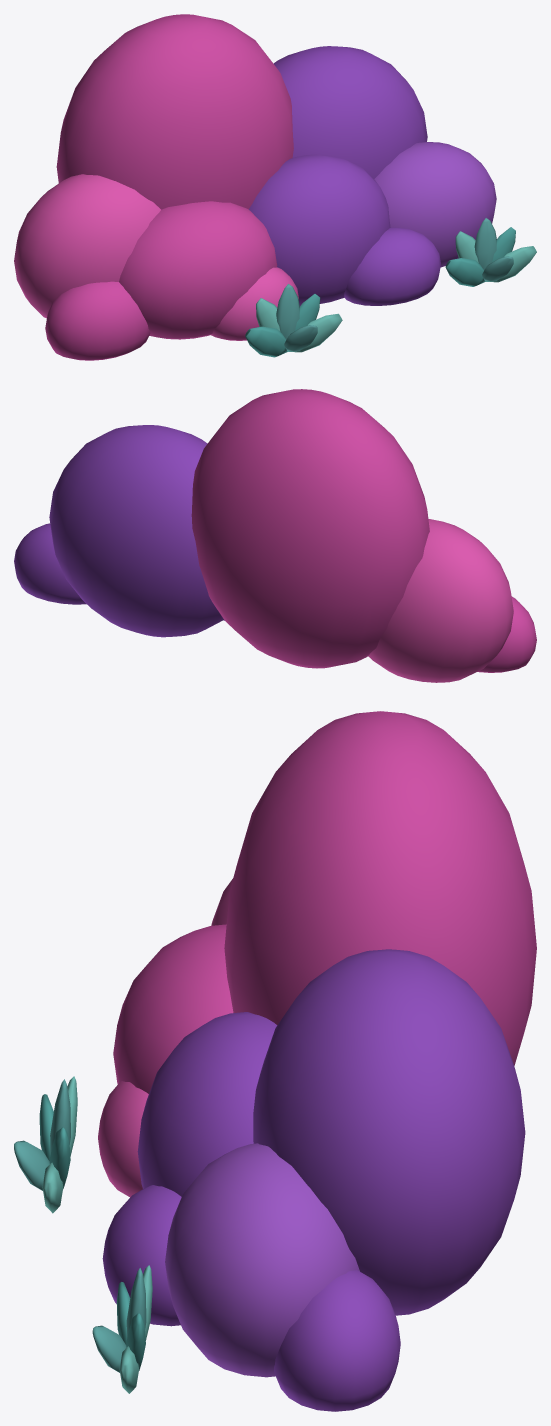
The model's file is berry_shrub_REMADE.glb.
The picture shows the model from 3 angles, top to bottom: view 1: azimuth 30°, elevation 25°; view 2: azimuth 150°, elevation 25°; view 3: azimuth 270°, elevation 25°; orthographic projection. The views are drawn at different scales.
Visible parts, largest first — view 1: berry_shrub_REMADE_visual; view 2: berry_shrub_REMADE_visual; view 3: berry_shrub_REMADE_visual.
Part boxes in pixels (bbox=[...]): berry_shrub_REMADE_visual: bbox=[14, 14, 536, 360]; berry_shrub_REMADE_visual: bbox=[14, 389, 536, 682]; berry_shrub_REMADE_visual: bbox=[14, 711, 536, 1411].
Bounding box in the file's own units: 2.44 × 1.31 × 1.37.
